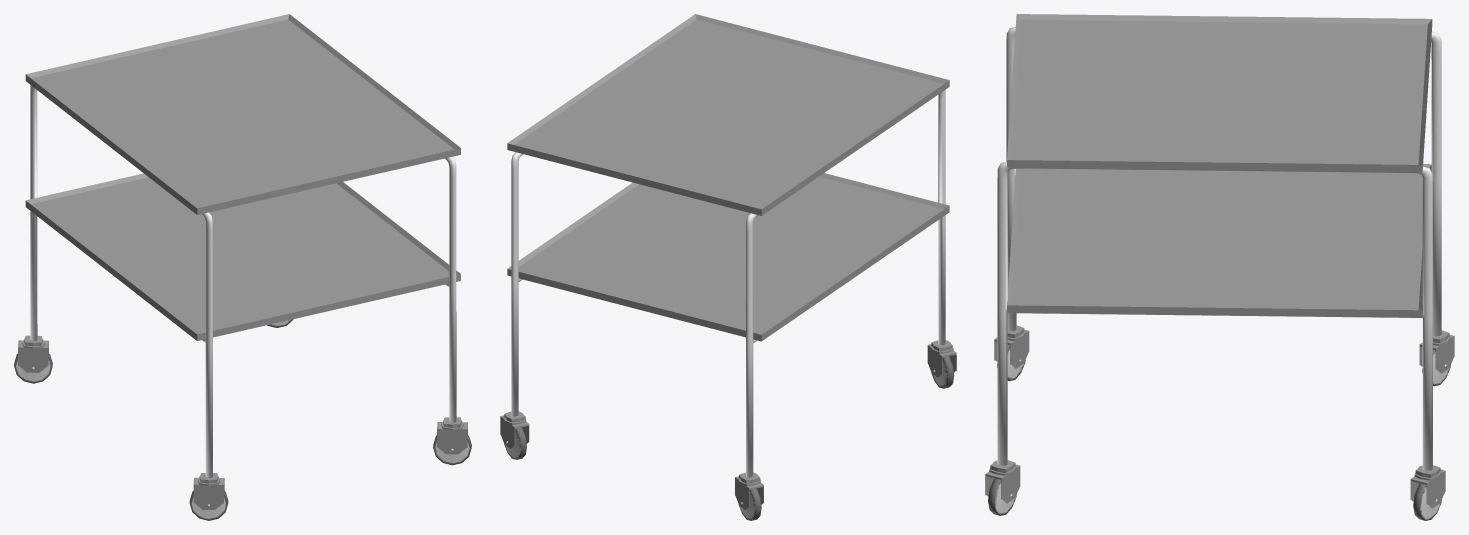
Rendered from MetallPushCart.fbx.
3 views of the same model, side by side, from view 1: azimuth 30°, elevation 25°; view 2: azimuth 150°, elevation 25°; view 3: azimuth 270°, elevation 25° (orthographic). The views are drawn at different scales.
Parts seen in each view (by area): view 1: Cylinder.059; view 2: Cylinder.059; view 3: Cylinder.059.
Part boxes in pixels (x1,y1,x2,y2): Cylinder.059: [14, 14, 471, 520]; Cylinder.059: [500, 14, 956, 520]; Cylinder.059: [985, 14, 1454, 520].
Size of the model in its own units: 1.1 by 0.8765 by 0.9328.
1 material, 1 textured.
